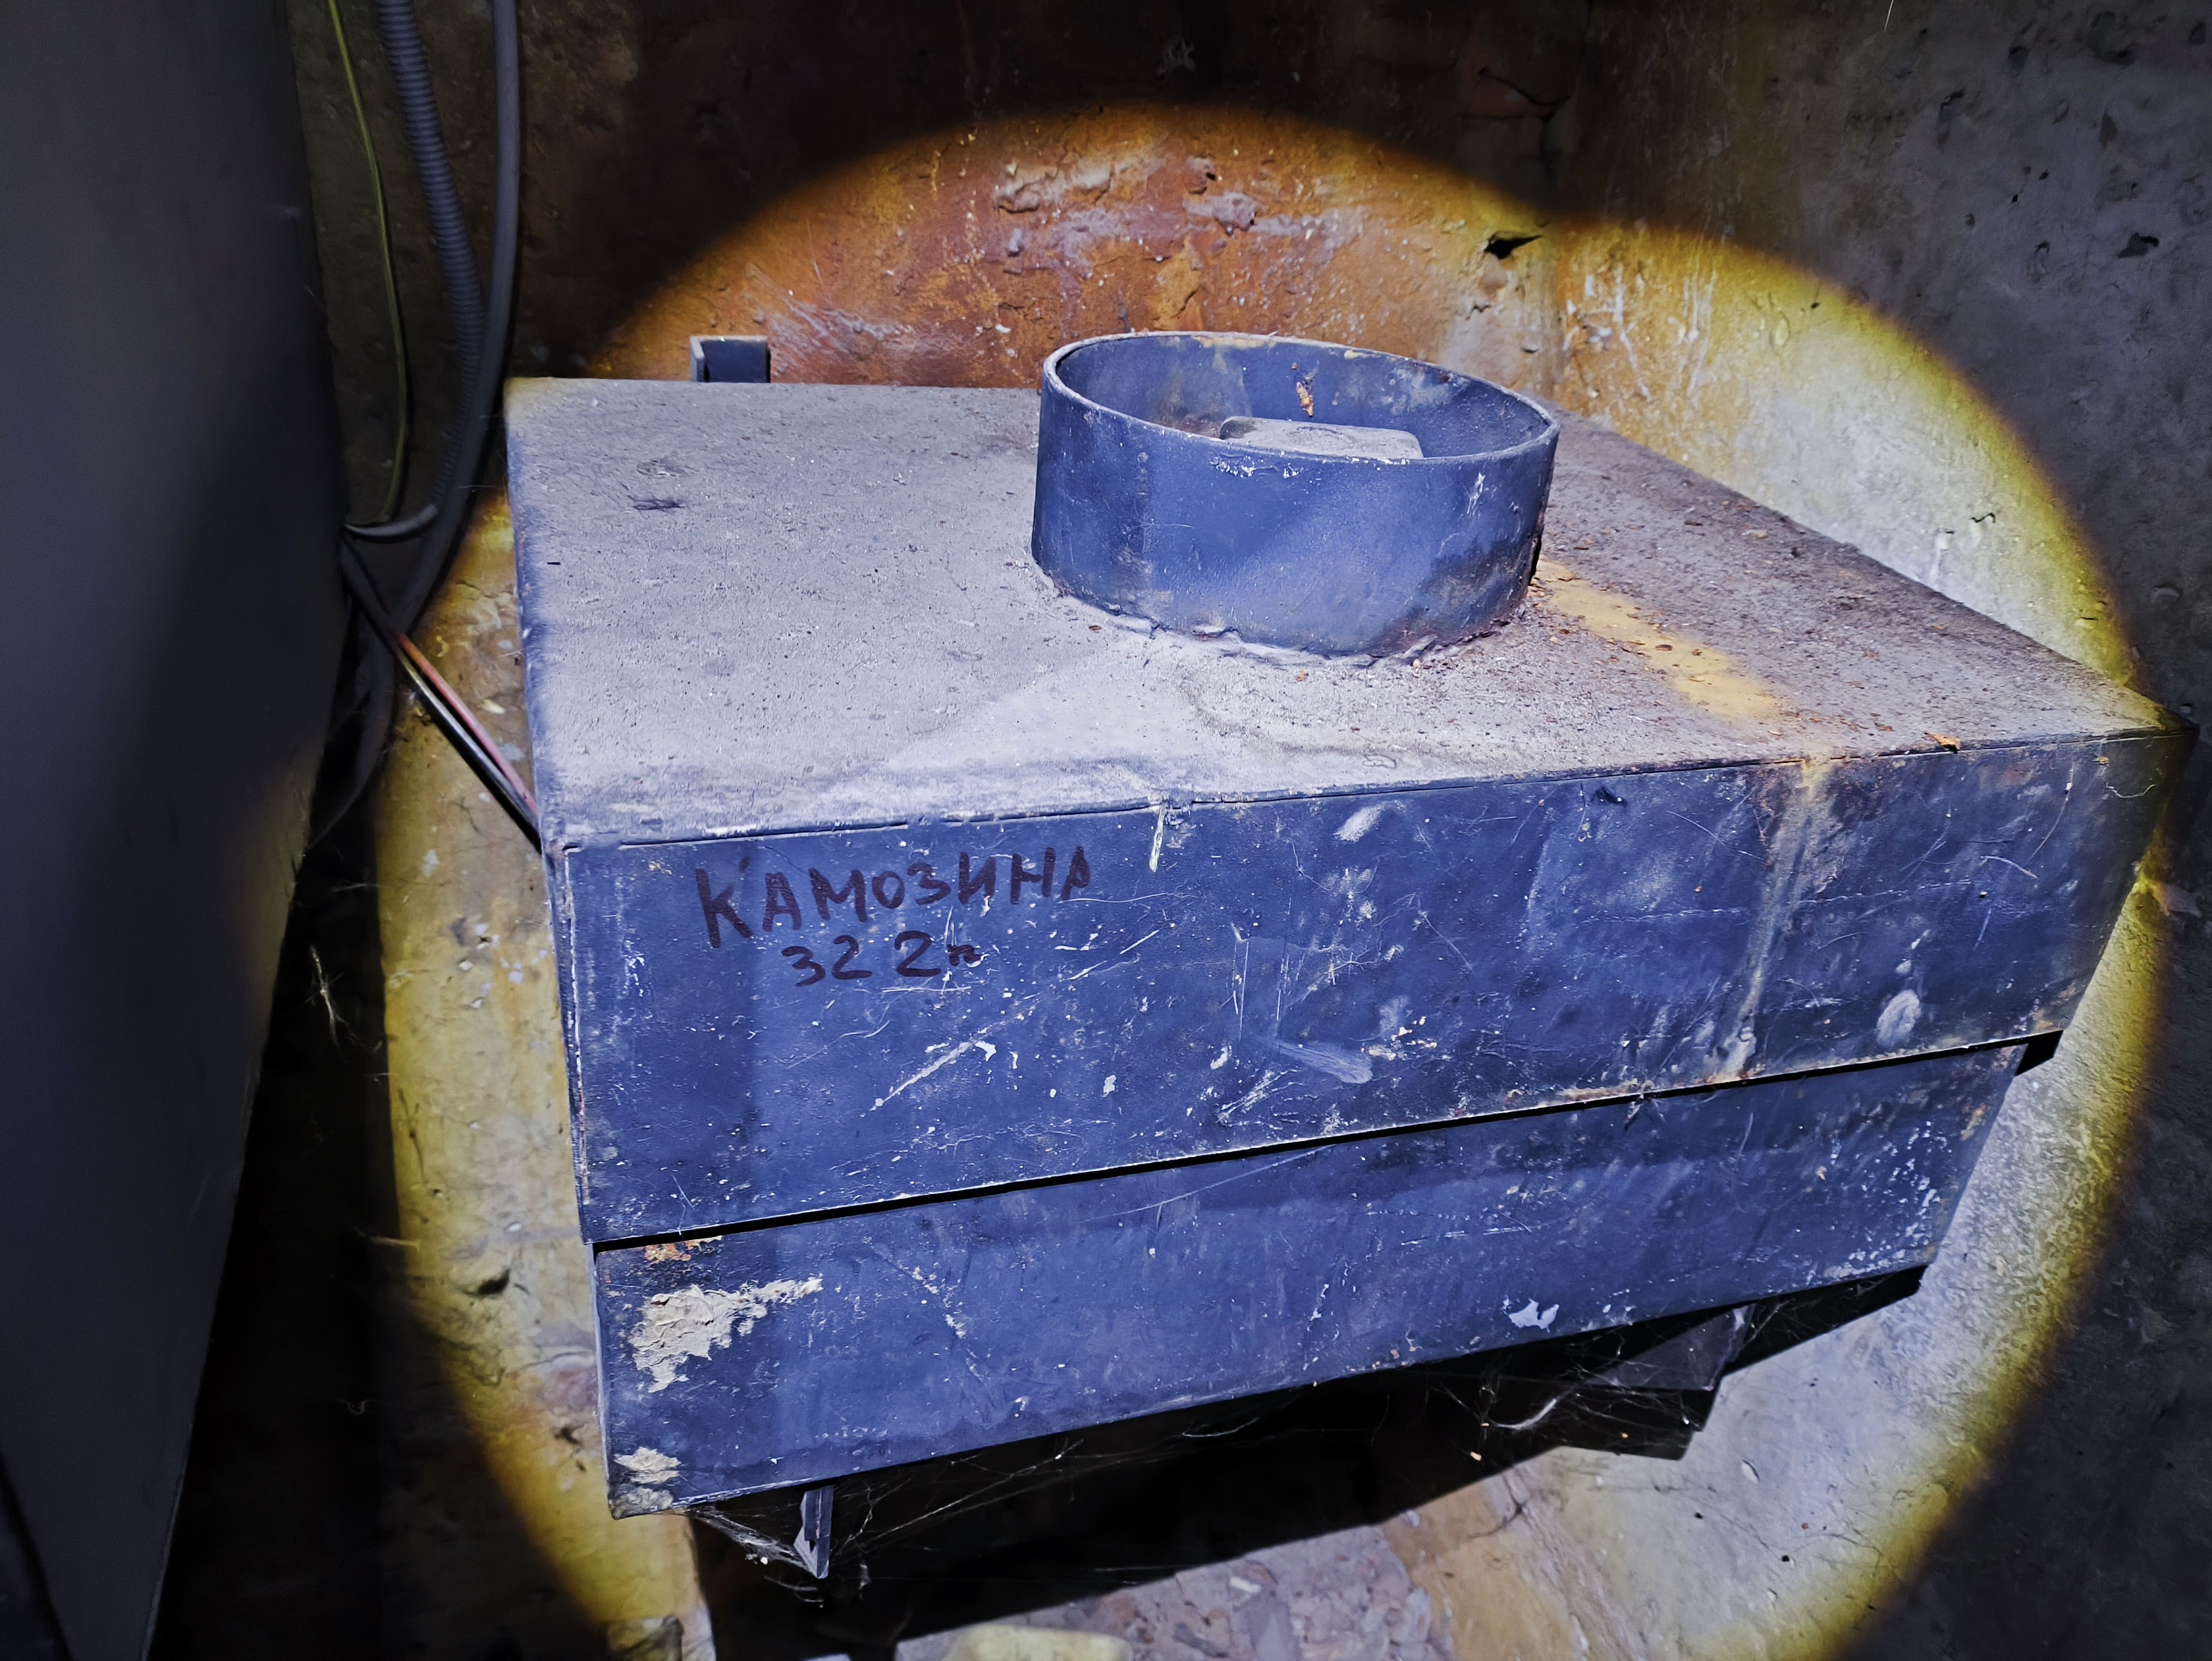shta-ps: (492, 319, 2205, 1527)
